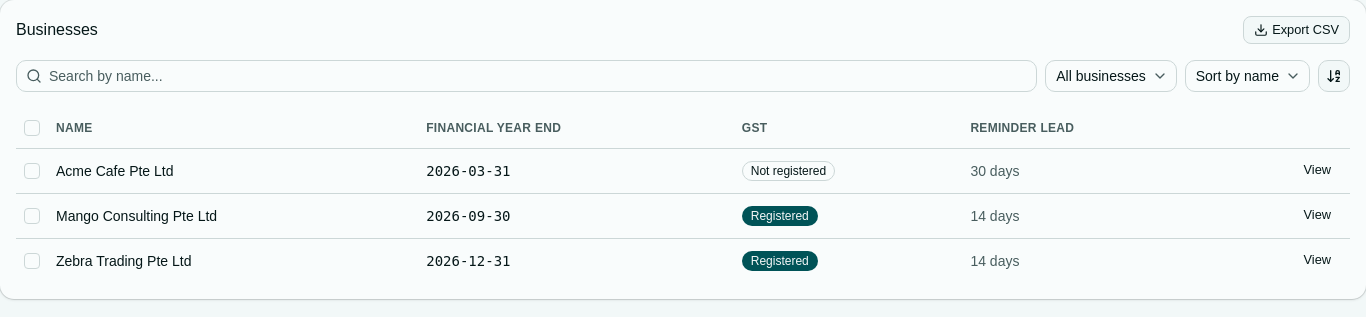
Test: BusinessList › shows a no-results message when the search matches nothing, without showing the fully-empty-list message
Type "nonexistent business" into the field with placeholder "Search by name..." at [527, 76], box 16,60 -> 1037,92
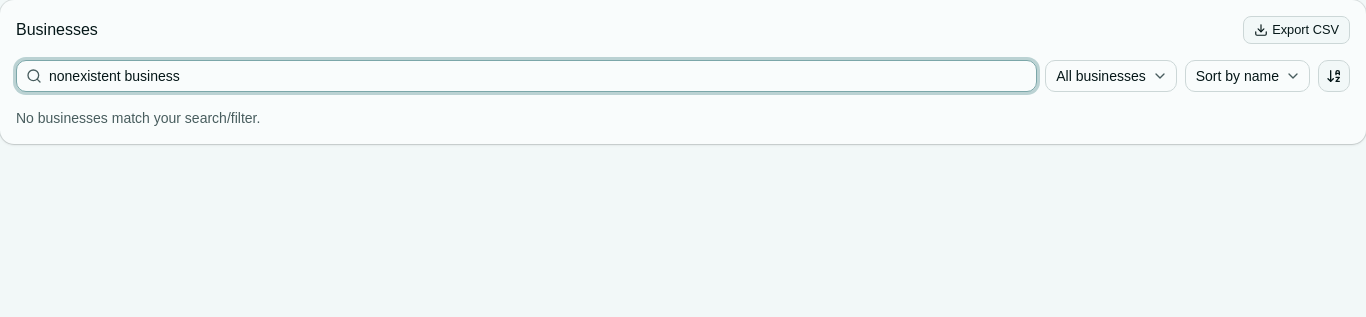
Check: the text "No businesses match your search/filter." is shown, box 16,110 -> 260,126
